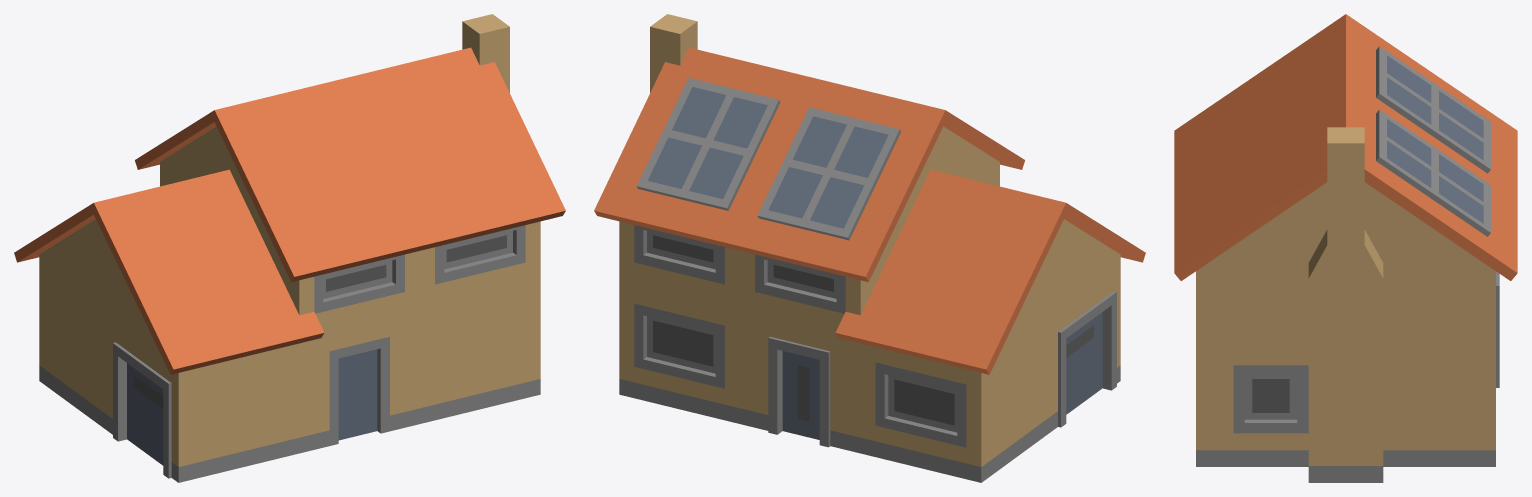
File: SM_Suburb_House_012.fbx
The picture shows the model from 3 angles, left to right: view 1: azimuth 30°, elevation 25°; view 2: azimuth 150°, elevation 25°; view 3: azimuth 270°, elevation 25°; orthographic projection. The views are drawn at different scales.
Visible parts, largest first — view 1: SM_Suburb_House_012; view 2: SM_Suburb_House_012; view 3: SM_Suburb_House_012.
Boxes of the visible parts, x1,y1,x2,y2 form: SM_Suburb_House_012: [14, 14, 565, 482]; SM_Suburb_House_012: [594, 14, 1145, 482]; SM_Suburb_House_012: [1174, 14, 1517, 482].
Bounding box in the file's own units: 972 × 720 × 660.
